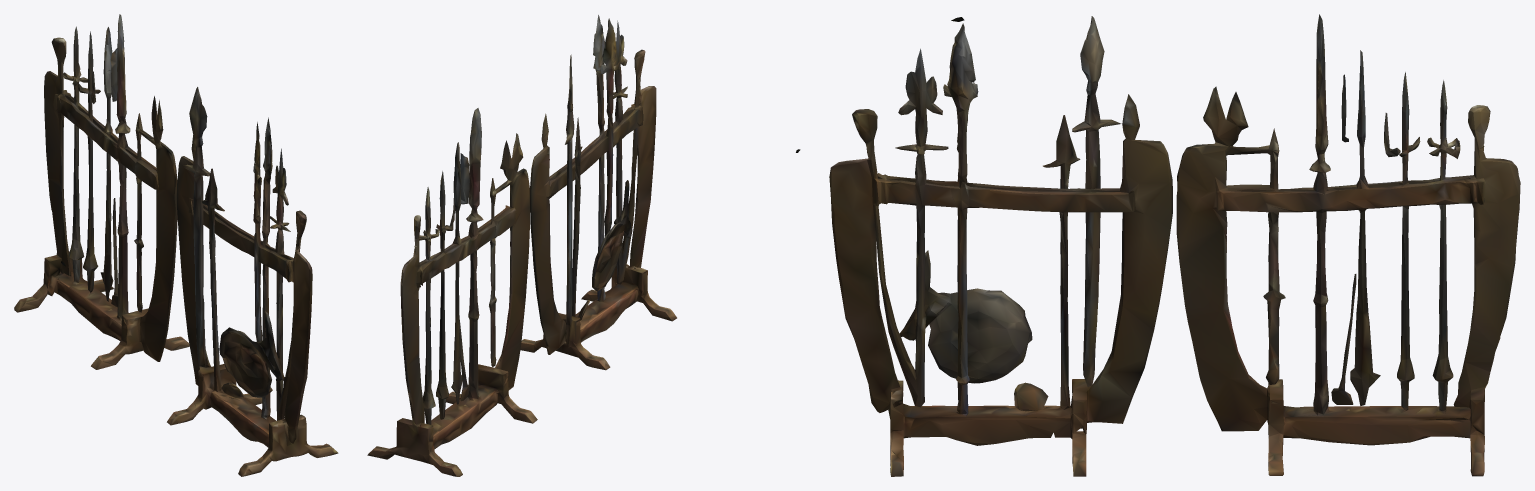
File: bq_weapon_rack.vc.glb
3 renders of one model, left to right at view 1: azimuth 30°, elevation 25°; view 2: azimuth 150°, elevation 25°; view 3: azimuth 270°, elevation 25°, orthographic. The views are drawn at different scales.
Visible parts, largest first — view 1: bq_weapon_rack; view 2: bq_weapon_rack; view 3: bq_weapon_rack.
Part boxes in pixels (x1=…): bq_weapon_rack: x1=14, y1=14, x2=338, y2=476; bq_weapon_rack: x1=367, y1=15, x2=800, y2=476; bq_weapon_rack: x1=829, y1=14, x2=1520, y2=476.
Size of the model in its own units: 1.09 by 1.37 by 2.
